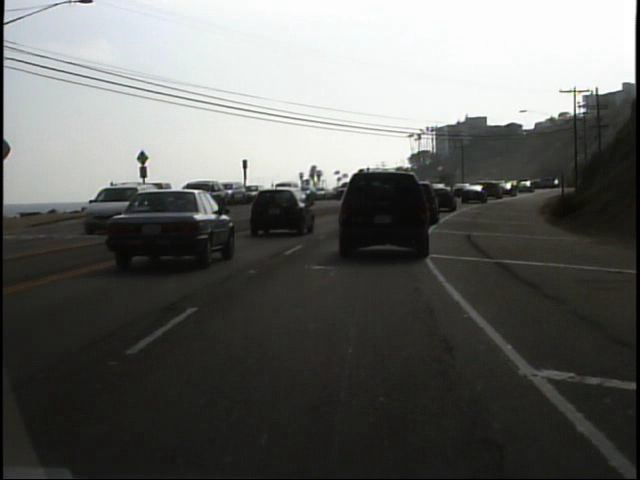person: (104, 179, 122, 216)
